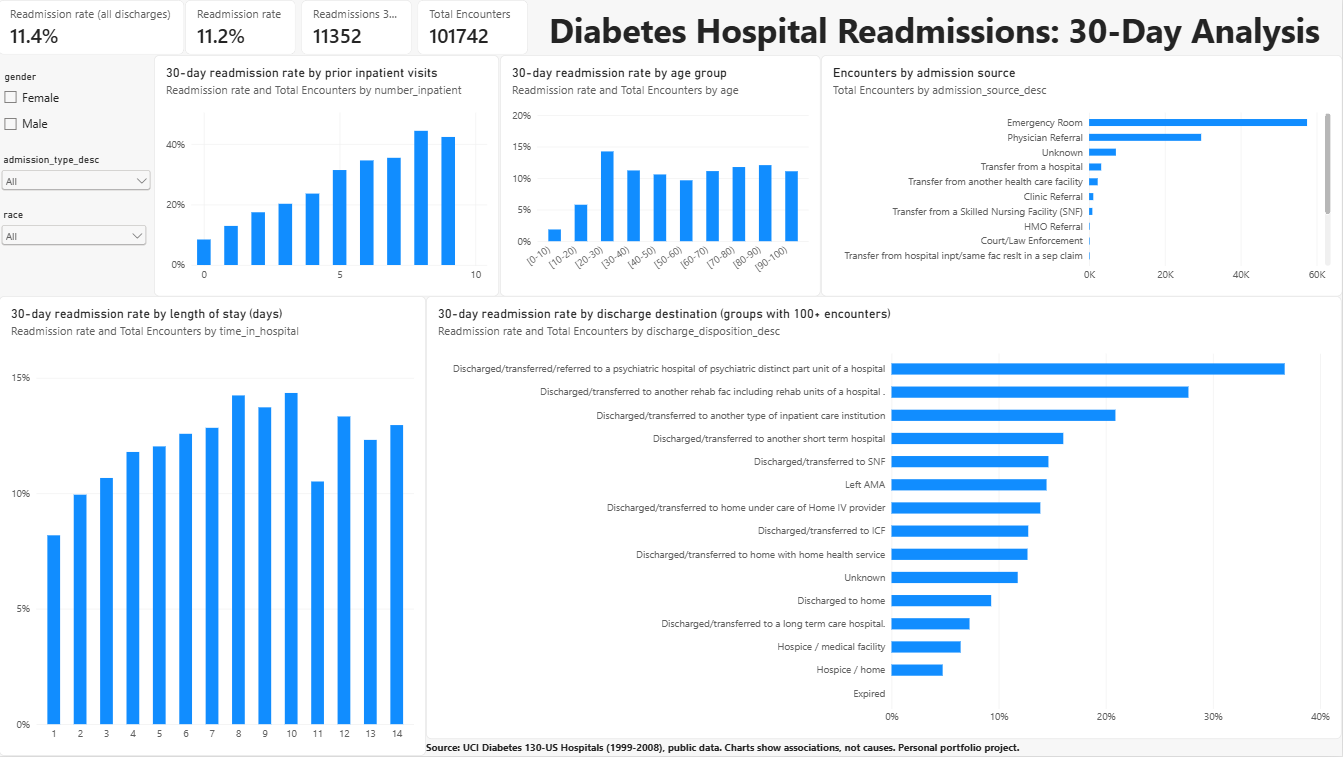

The page's visual inventory and layout, read from the dashboard file:
{"tool":"powerbi","page":{"name":"Overview","canvas":[1920,1080],"ordinal":0},"visuals":[{"type":"cardVisual","fields":{"Data":["fact_encounter.Readmission Rate","fact_encounter.Readmissions 30d","fact_encounter.Total Encounters"]},"box":[266.7,0,490,78.3],"z":0},{"type":"clusteredColumnChart","title":"30-day readmission rate by age group","fields":{"Category":["dim_age_group.age"],"Y":["fact_encounter.Readmission Rate"]},"box":[716.7,78.3,458.3,345],"z":0},{"type":"clusteredBarChart","title":"30-day readmission rate by discharge destination (groups with 100+ encounters)","fields":{"Category":["dim_discharge_disposition.discharge_disposition_desc"],"Y":["fact_encounter.Readmission Rate"]},"box":[611.7,423.3,1308.3,633.3],"z":1000},{"type":"clusteredBarChart","title":"Encounters by admission source","fields":{"Category":["dim_admission_source.admission_source_desc"],"Y":["fact_encounter.Total Encounters"]},"box":[1175,78.3,745,345],"z":2000},{"type":"cardVisual","fields":{"Data":["fact_encounter.At-Risk Readmission Rate"]},"box":[0,0,266.7,78.3],"z":2002},{"type":"slicer","fields":{"Values":["fact_encounter.gender"]},"box":[1.7,101.7,106.7,105],"z":4000},{"type":"slicer","fields":{"Values":["fact_encounter.race"]},"box":[0,298.3,216.7,78.3],"z":5000},{"type":"slicer","fields":{"Values":["dim_admission_type.admission_type_desc"]},"box":[0,220,223.3,78.3],"z":6000},{"type":"clusteredColumnChart","title":"30-day readmission rate by length of stay (days)","fields":{"Category":["fact_encounter.time_in_hospital"],"Y":["fact_encounter.Readmission Rate"]},"box":[1.7,423.3,610,656.7],"z":7000},{"type":"clusteredColumnChart","title":"30-day readmission rate by prior inpatient visits","fields":{"Category":["fact_encounter.number_inpatient"],"Y":["fact_encounter.Readmission Rate"]},"box":[223.3,78.3,493.3,345],"z":8000},{"type":"textbox","box":[806.7,10,1043.3,58.3],"z":9000},{"type":"textbox","box":[611.7,1056.7,1308.3,23.3],"z":10000}]}

Visuals, with their boxes in screenshot pixels (x1, y1, x2, y2), scaled from the page's 1920x1080 canvas onto the 1343x757 screenshot:
cardVisual - fact_encounter.Readmission Rate x fact_encounter.Readmissions 30d: 187:0:529:55
"30-day readmission rate by age group" clusteredColumnChart: 501:55:822:297
"30-day readmission rate by discharge destination (groups with 100+ encounters)" clusteredBarChart: 428:297:1342:741
"Encounters by admission source" clusteredBarChart: 822:55:1342:297
cardVisual - fact_encounter.At-Risk Readmission Rate: 0:0:187:55
slicer - fact_encounter.gender: 1:71:76:145
slicer - fact_encounter.race: 0:209:152:264
slicer - dim_admission_type.admission_type_desc: 0:154:156:209
"30-day readmission rate by length of stay (days)" clusteredColumnChart: 1:297:428:756
"30-day readmission rate by prior inpatient visits" clusteredColumnChart: 156:55:501:297
textbox: 564:7:1294:48
textbox: 428:741:1342:756
